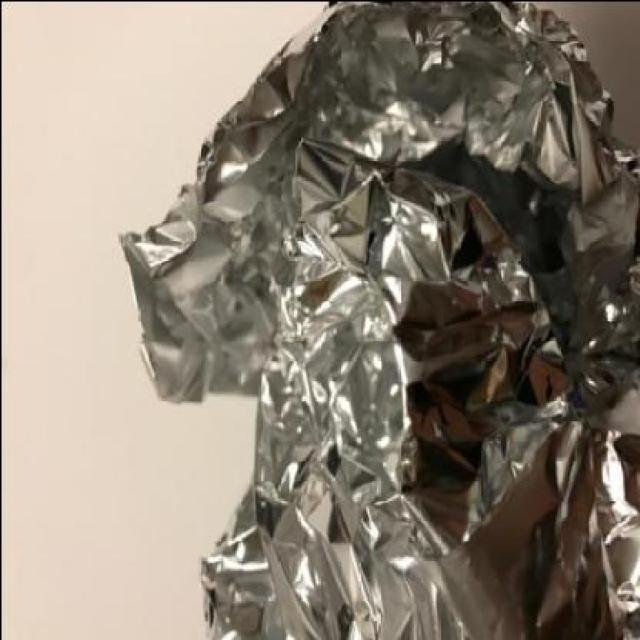METAL: (115, 1, 640, 638)
